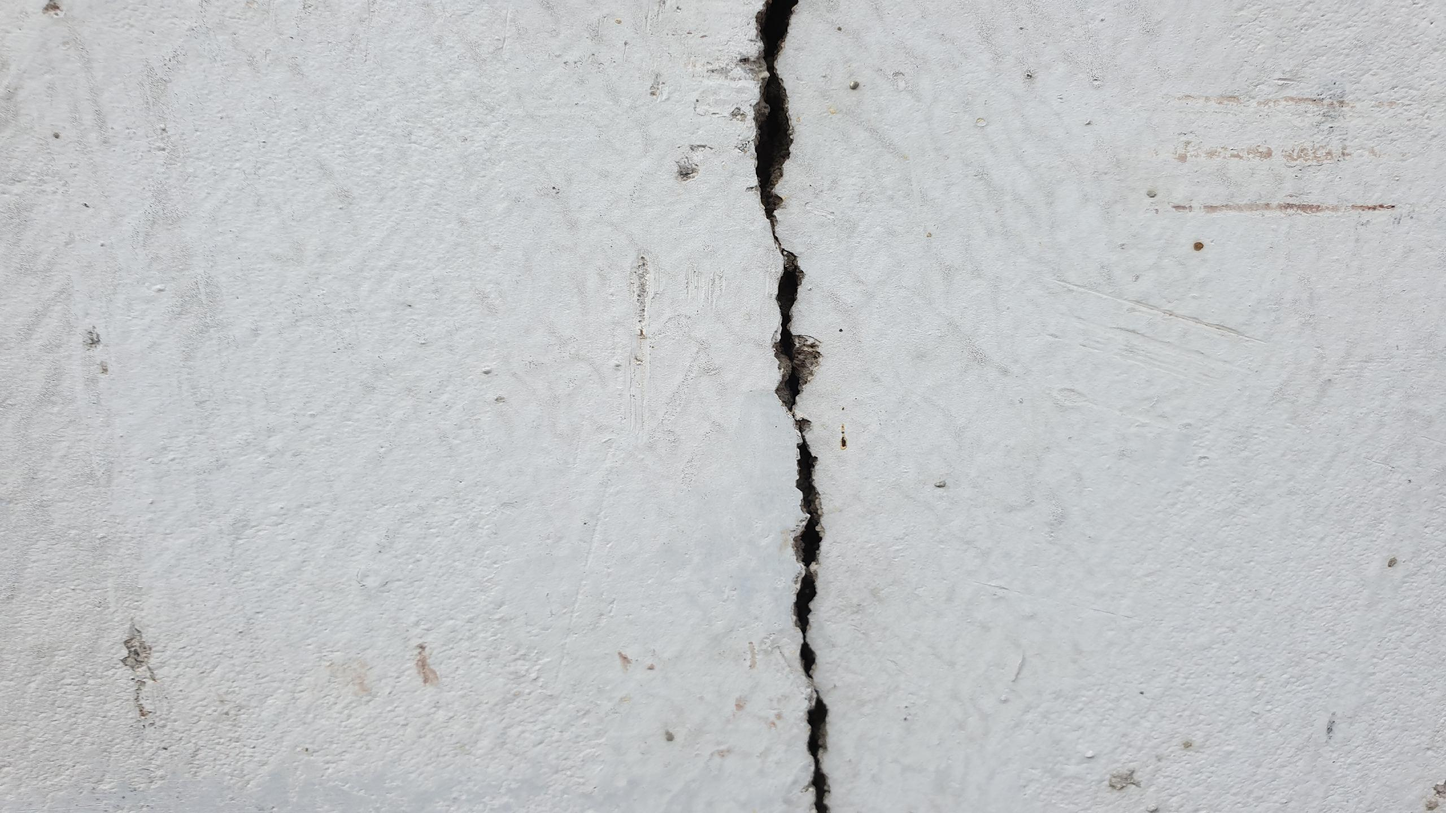crack: (743, 7, 838, 809)
